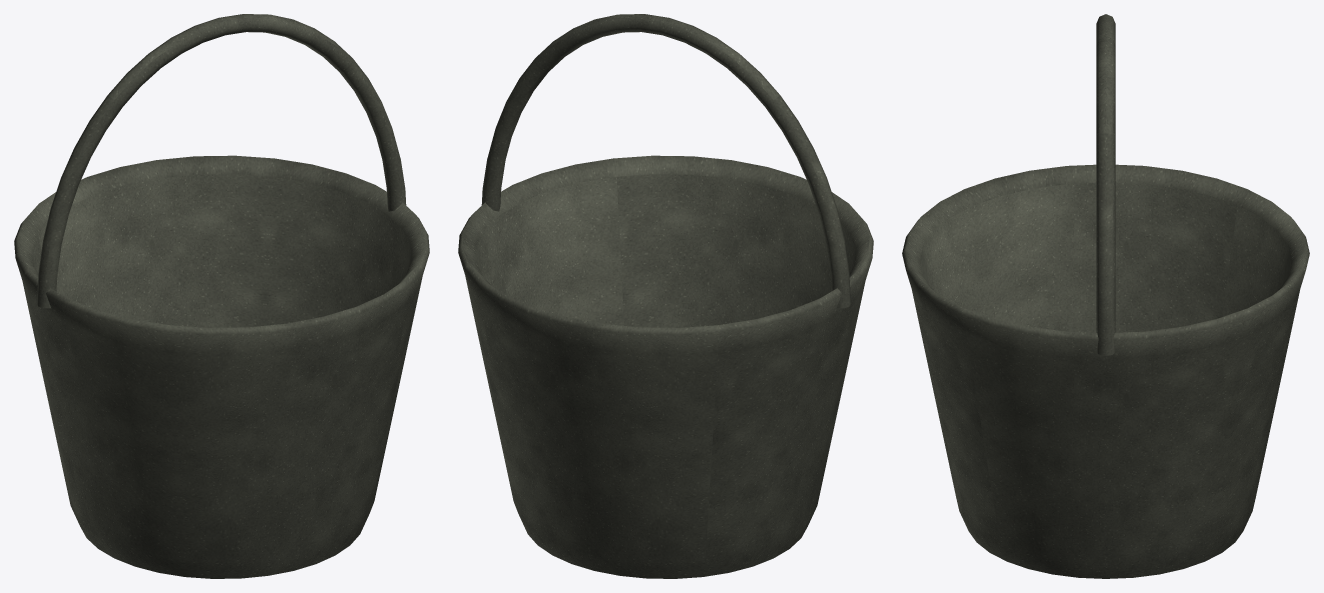
The model's file is WardPail.fbx.
The picture shows the model from 3 angles, left to right: view 1: azimuth 30°, elevation 25°; view 2: azimuth 150°, elevation 25°; view 3: azimuth 270°, elevation 25°; orthographic projection. The views are drawn at different scales.
Visible parts, largest first — view 1: Enamel_pail; view 2: Enamel_pail; view 3: Enamel_pail.
Part boxes in pixels (bbox=[...]): Enamel_pail: bbox=[14, 14, 429, 578]; Enamel_pail: bbox=[458, 14, 873, 578]; Enamel_pail: bbox=[902, 14, 1309, 578].
Bounding box in the file's own units: 0.306 × 0.398 × 0.3.
